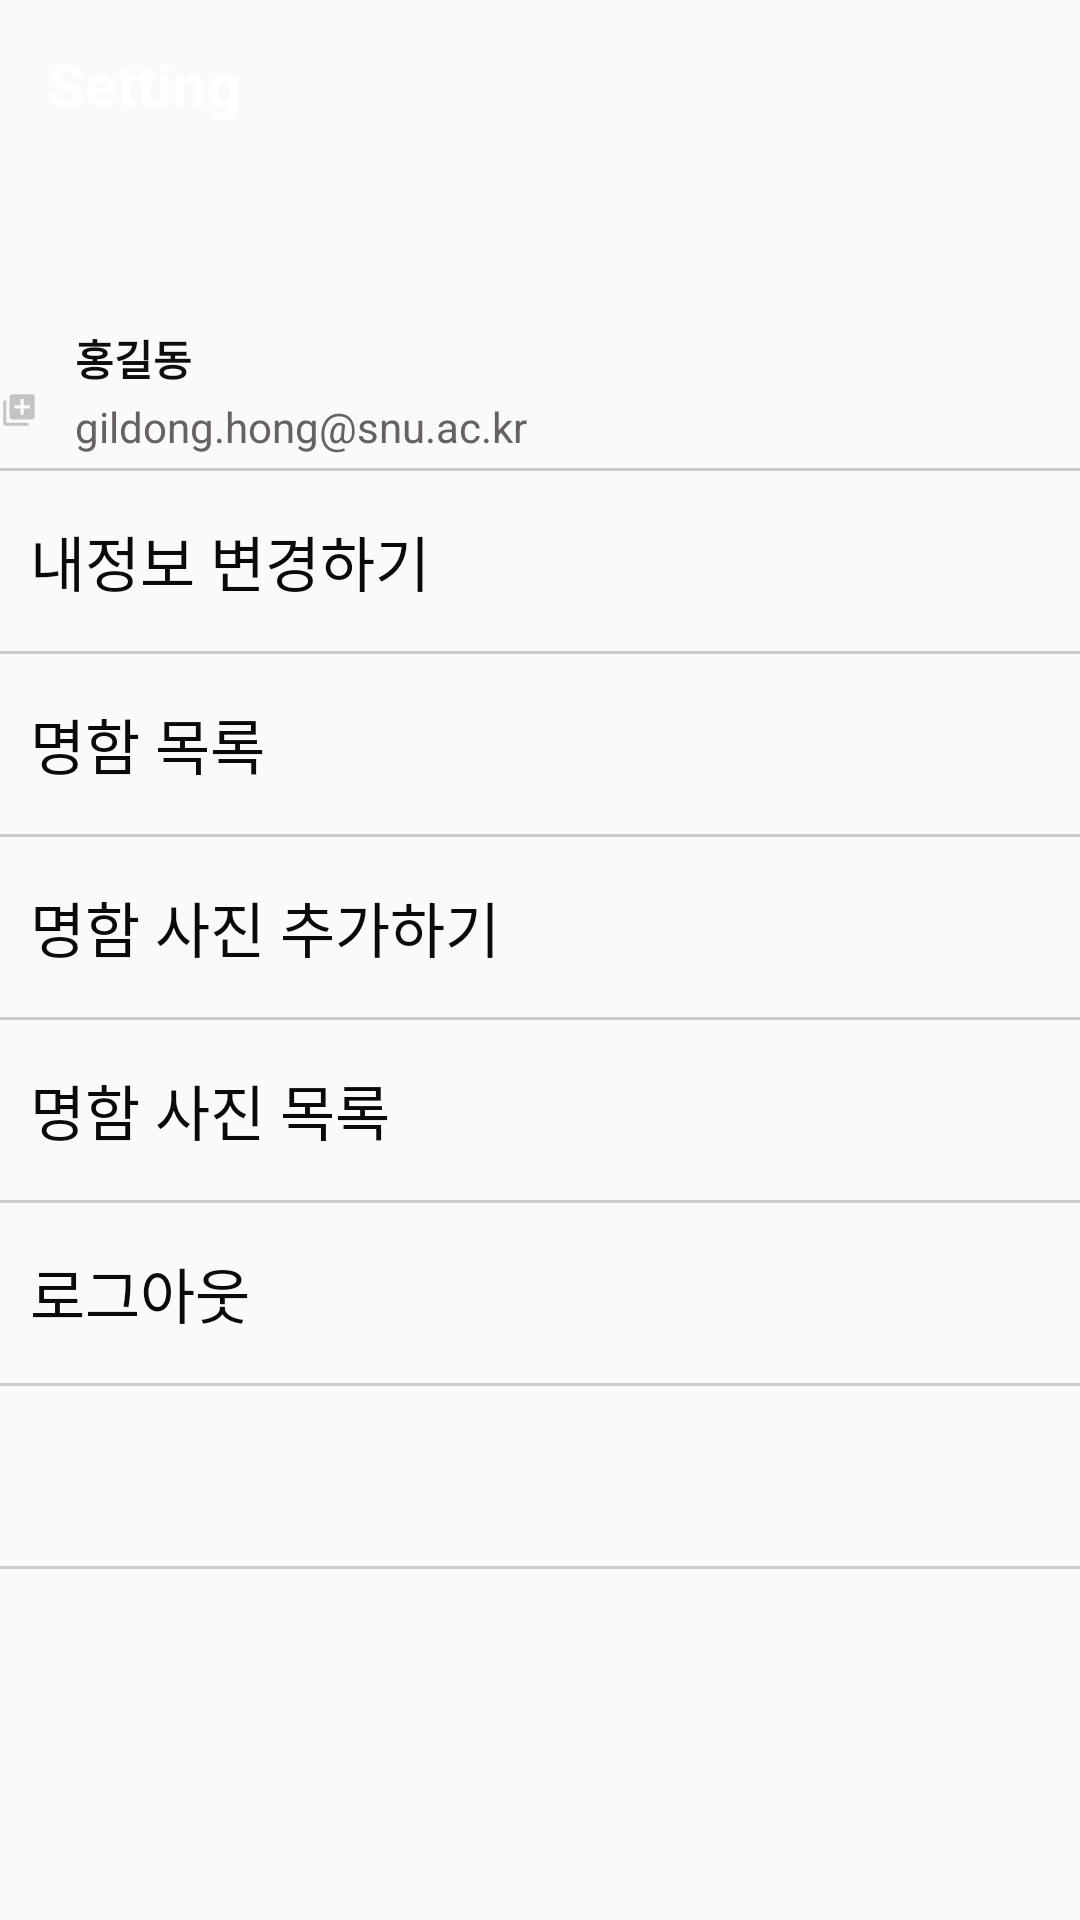

Locate icon controls on the screen. Image size 1080 × 1920, boxes as bbox=(x1, y1, x2, y2).
add to photos: bbox=(3, 394, 35, 426)
